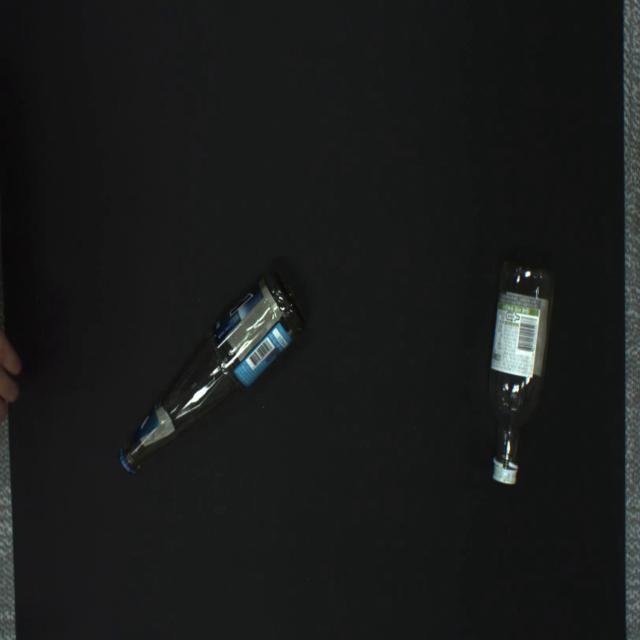beer-bottle: (120, 271, 304, 474)
soju-bottle: (489, 262, 554, 485)
